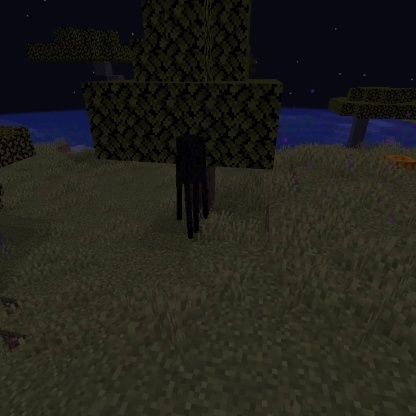enderman: (173, 133, 211, 242)
